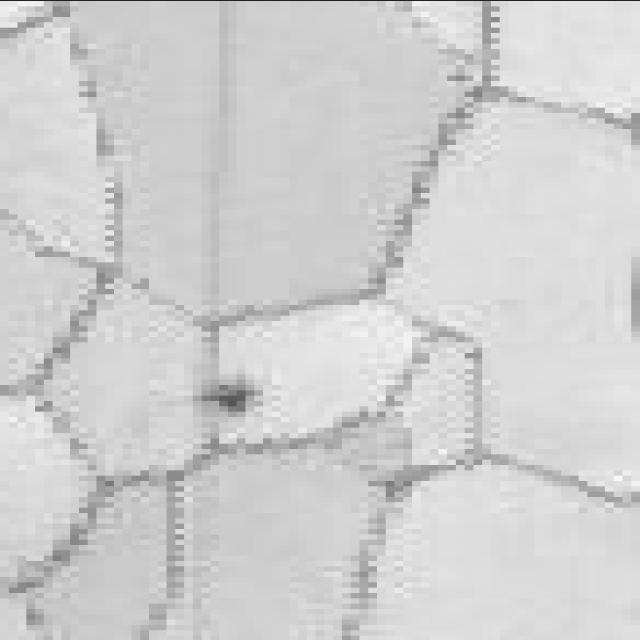good_void: (191, 376, 275, 415)
